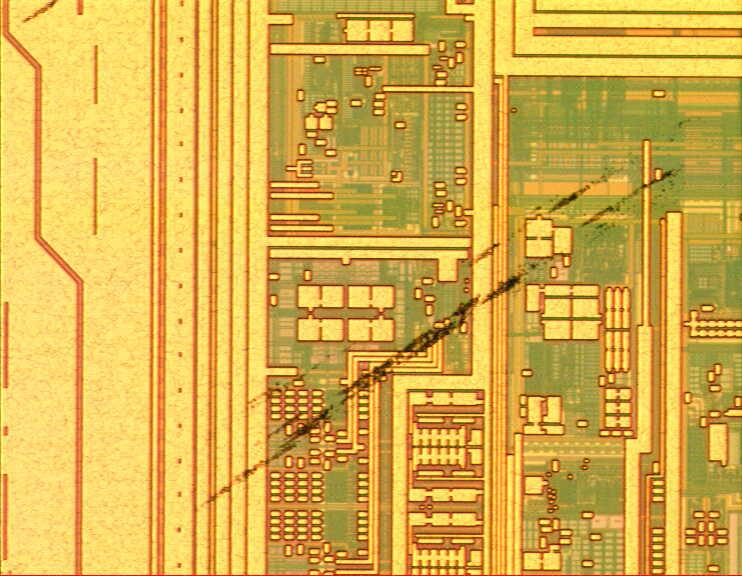SCRATCH: (152, 114, 715, 519)
